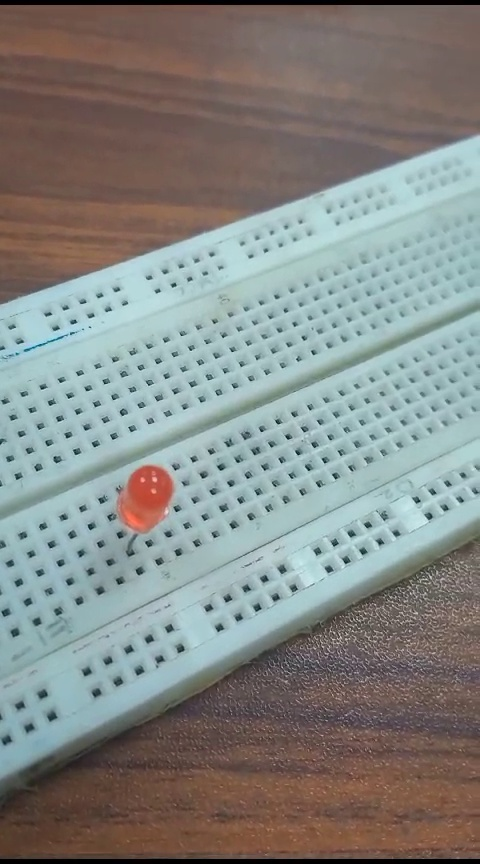LED: (111, 447, 180, 556)
